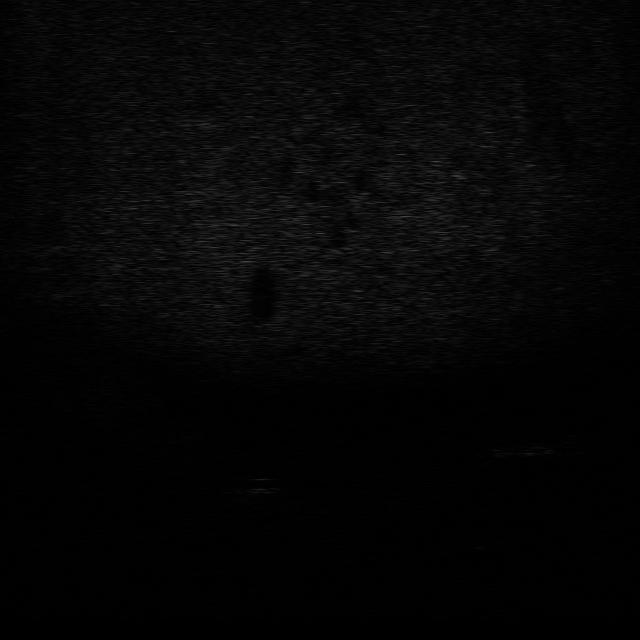ball: (234, 471, 278, 496)
human body: (482, 433, 578, 462)
